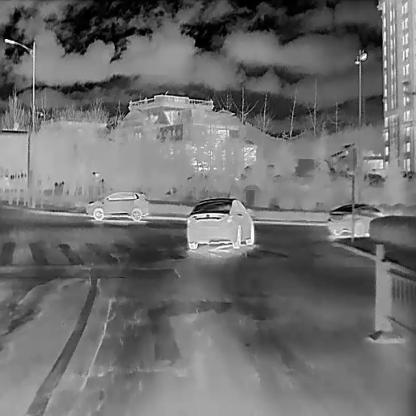car: (185, 196, 254, 250), (84, 189, 150, 221), (326, 202, 384, 236)
